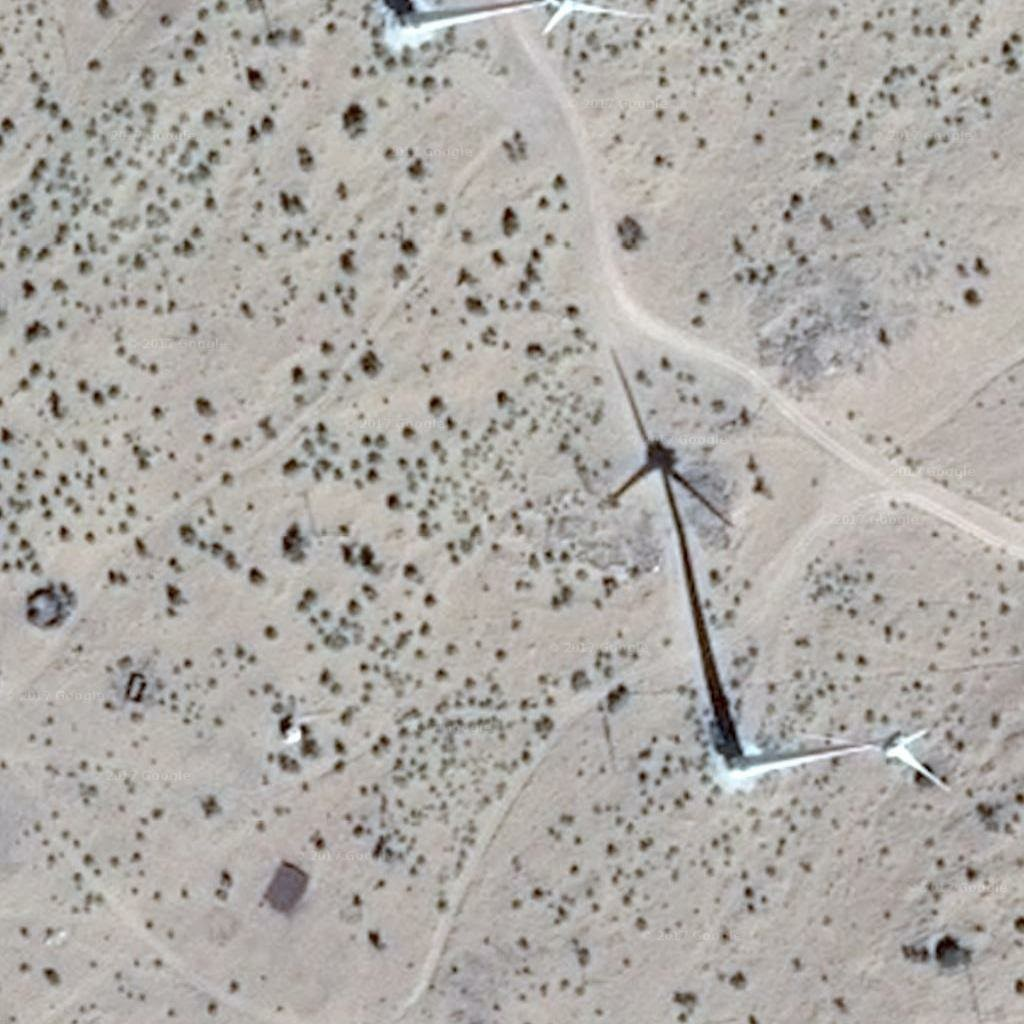Windmill: (600, 346, 758, 735)
